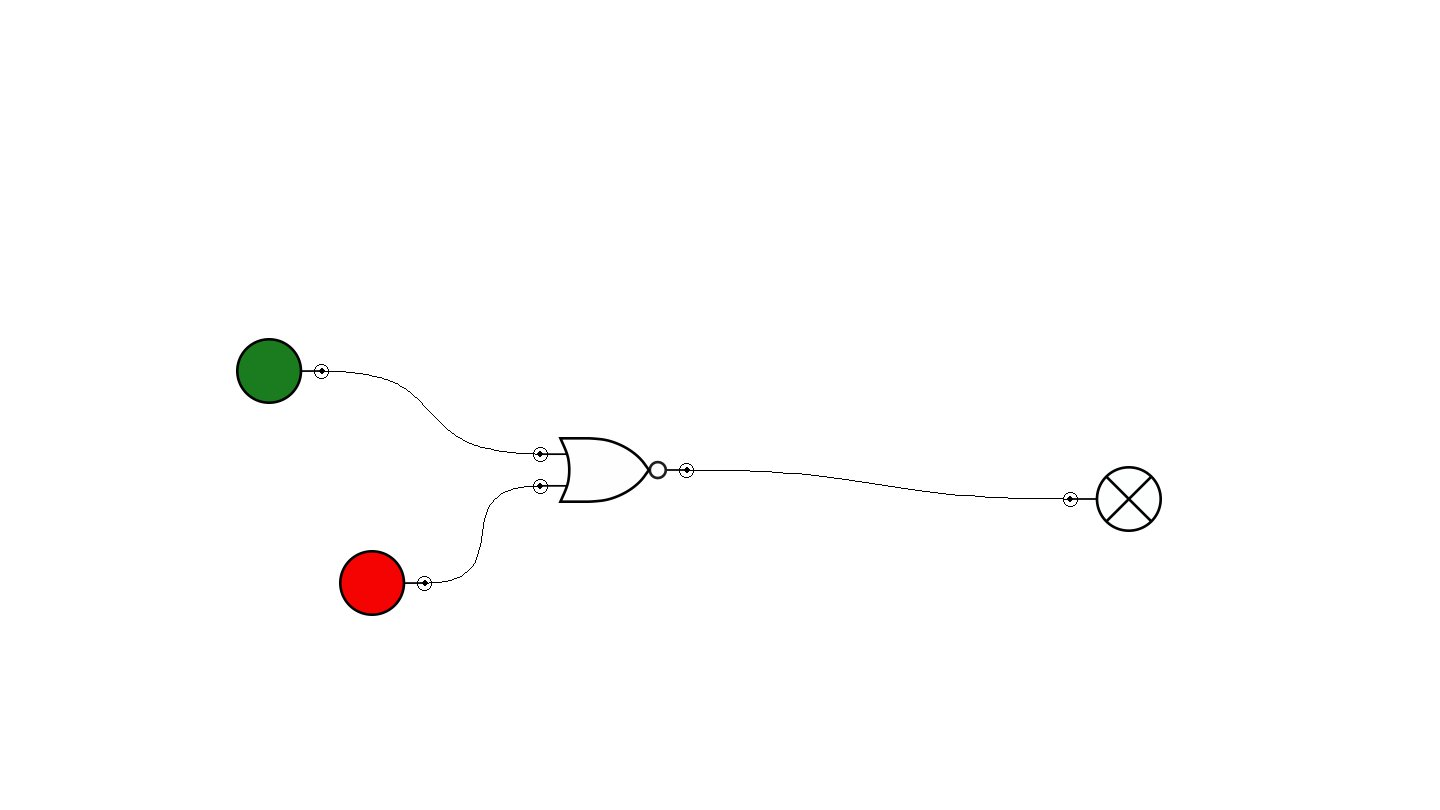bulb: (1063, 466, 1162, 532)
nor: (533, 437, 694, 503)
switch_False: (339, 550, 432, 616)
switch_True: (236, 338, 329, 404)
